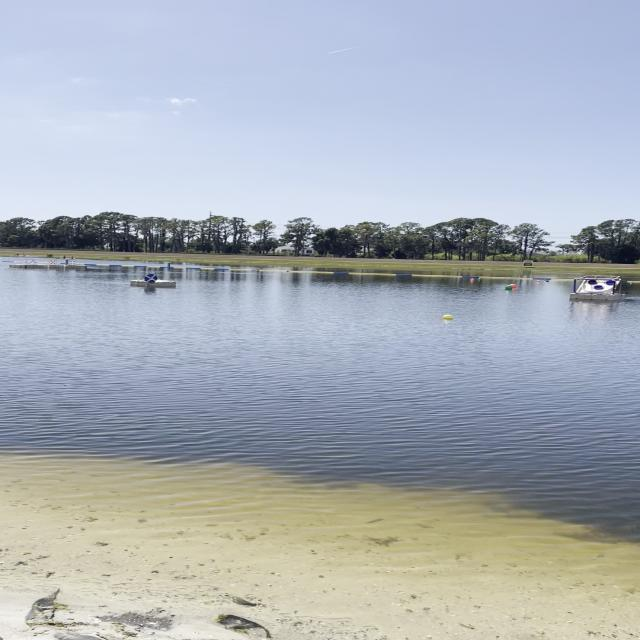buoy: (440, 316, 458, 320), (504, 286, 512, 290), (510, 284, 518, 288), (470, 278, 474, 281), (477, 278, 482, 280), (546, 280, 550, 282)
